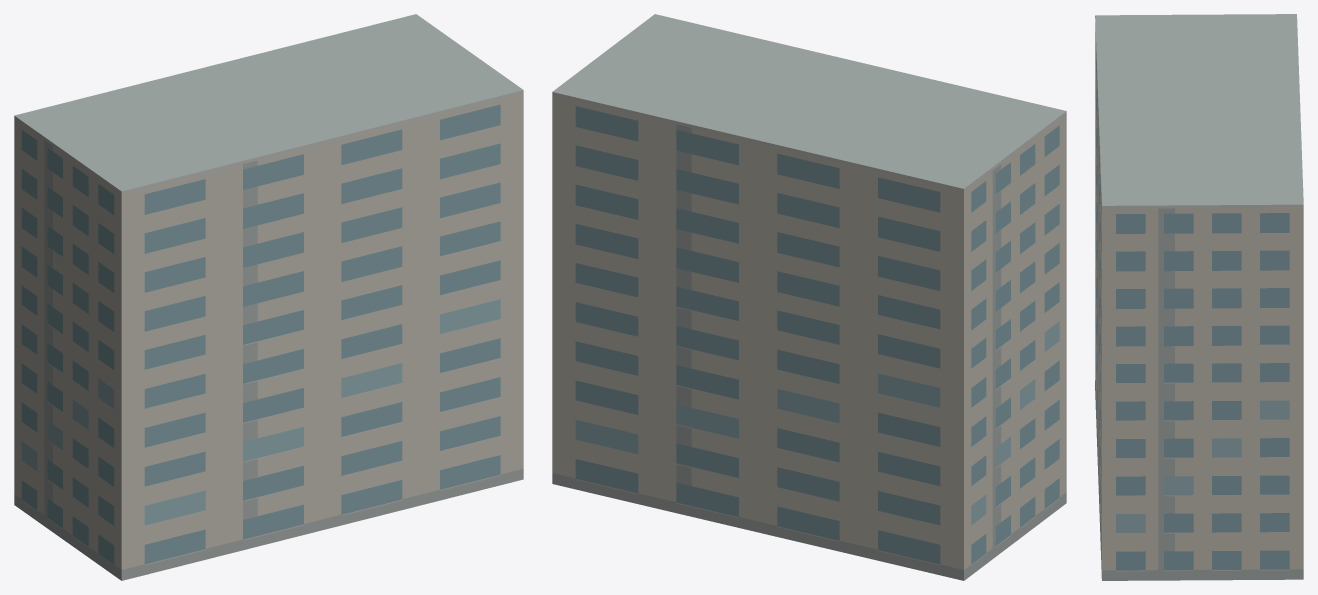
Rendered from residential-10a11a78-28a5-47b5-862d-9b2f8d8154a9.glb.
The picture shows the model from 3 angles, left to right: view 1: azimuth 30°, elevation 25°; view 2: azimuth 150°, elevation 25°; view 3: azimuth 270°, elevation 25°; orthographic projection. The views are drawn at different scales.
Parts seen in each view (by area): view 1: residential-10a11a78-28a5-47b5-862d-9b2f8d8154a9.tmp; view 2: residential-10a11a78-28a5-47b5-862d-9b2f8d8154a9.tmp; view 3: residential-10a11a78-28a5-47b5-862d-9b2f8d8154a9.tmp.
Boxes of the visible parts, x1=… form: residential-10a11a78-28a5-47b5-862d-9b2f8d8154a9.tmp: x1=14, y1=14, x2=523, y2=580; residential-10a11a78-28a5-47b5-862d-9b2f8d8154a9.tmp: x1=552, y1=14, x2=1066, y2=580; residential-10a11a78-28a5-47b5-862d-9b2f8d8154a9.tmp: x1=1095, y1=14, x2=1303, y2=580.
Bounding box in the file's own units: 32.93 × 30 × 15.13.
